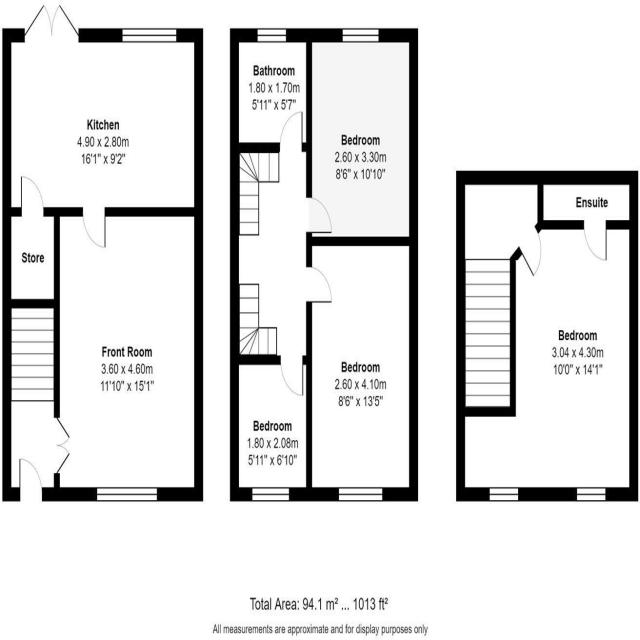DOOR: (518, 225, 542, 277), (20, 458, 44, 502), (20, 175, 45, 217), (280, 354, 304, 397), (279, 110, 303, 153), (306, 266, 333, 303), (583, 220, 607, 261), (306, 197, 333, 233), (83, 207, 106, 249)
DOUBLE DOOR: (22, 0, 81, 43), (53, 417, 71, 474)
ROOM: (456, 220, 638, 502), (1, 6, 203, 250), (53, 206, 204, 502), (306, 235, 418, 502), (306, 28, 419, 247), (229, 353, 313, 502), (230, 28, 312, 153)
WINDOW: (97, 487, 157, 502), (122, 28, 177, 44), (339, 487, 383, 502), (252, 487, 290, 502), (342, 28, 379, 43), (577, 487, 606, 502), (257, 29, 287, 43), (490, 487, 518, 501)
